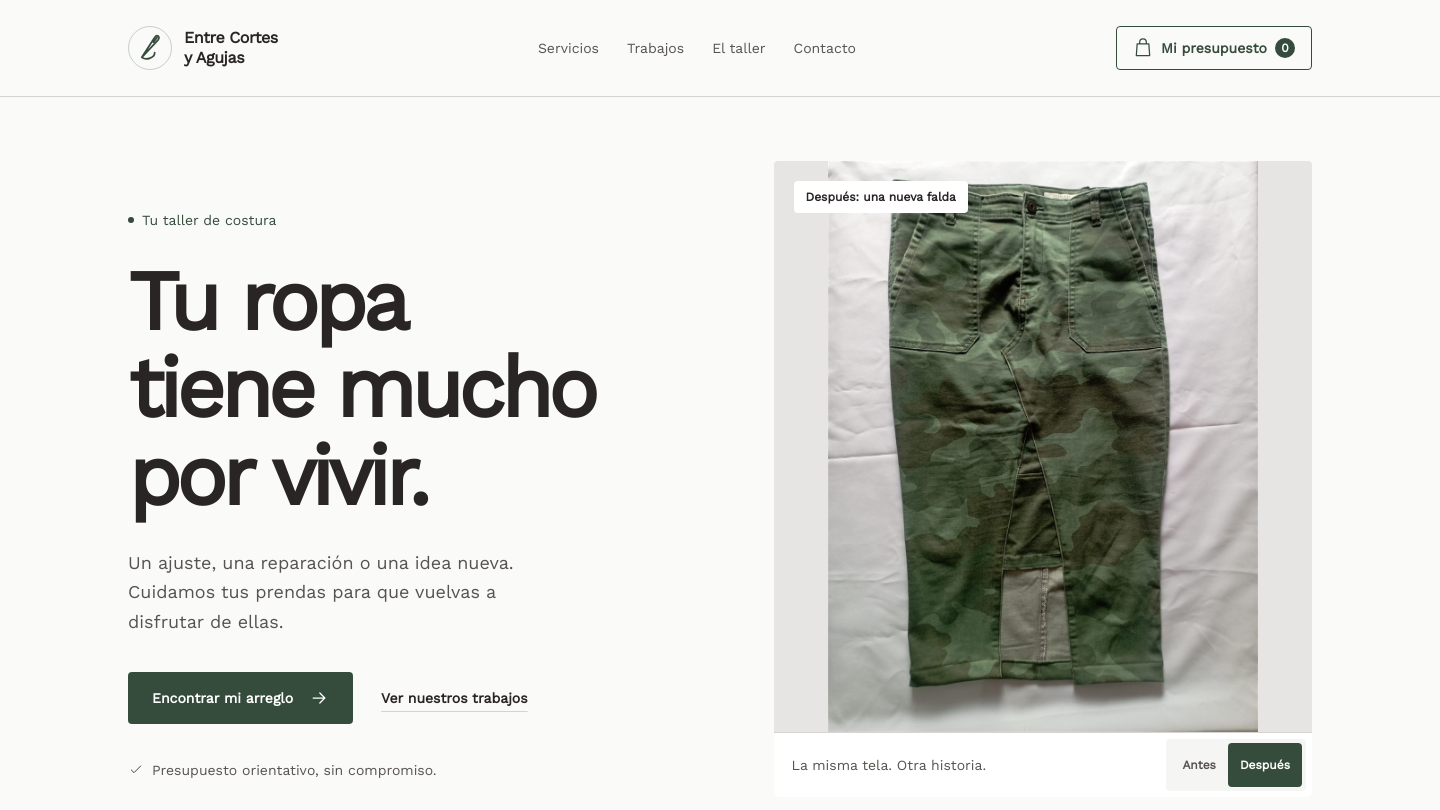
Scenario: workshop landing › renders the landing sections and compares a transformation
Expected: the heading "Tu ropa tiene mucho por vivir." is shown, [128,252,594,525]
Click the button with aria-label "Ver antes" at (1199, 765), box [1170,743,1228,787]
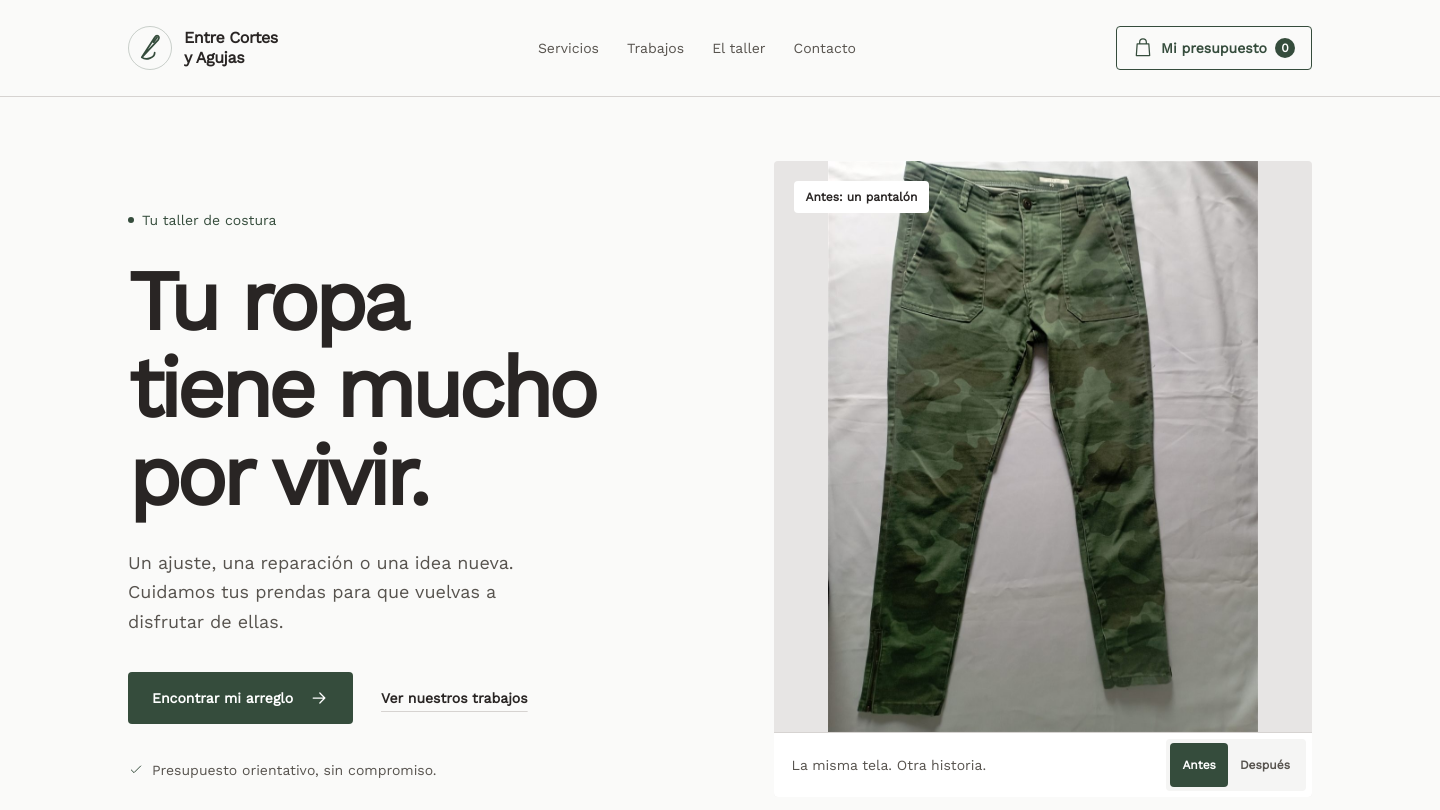
Now the picture with alt text "Pantalón original antes de su transformación" is shown, box [774,161,1312,732]
Click the button with aria-label "Ver después" at (1265, 765), box [1228,743,1302,787]
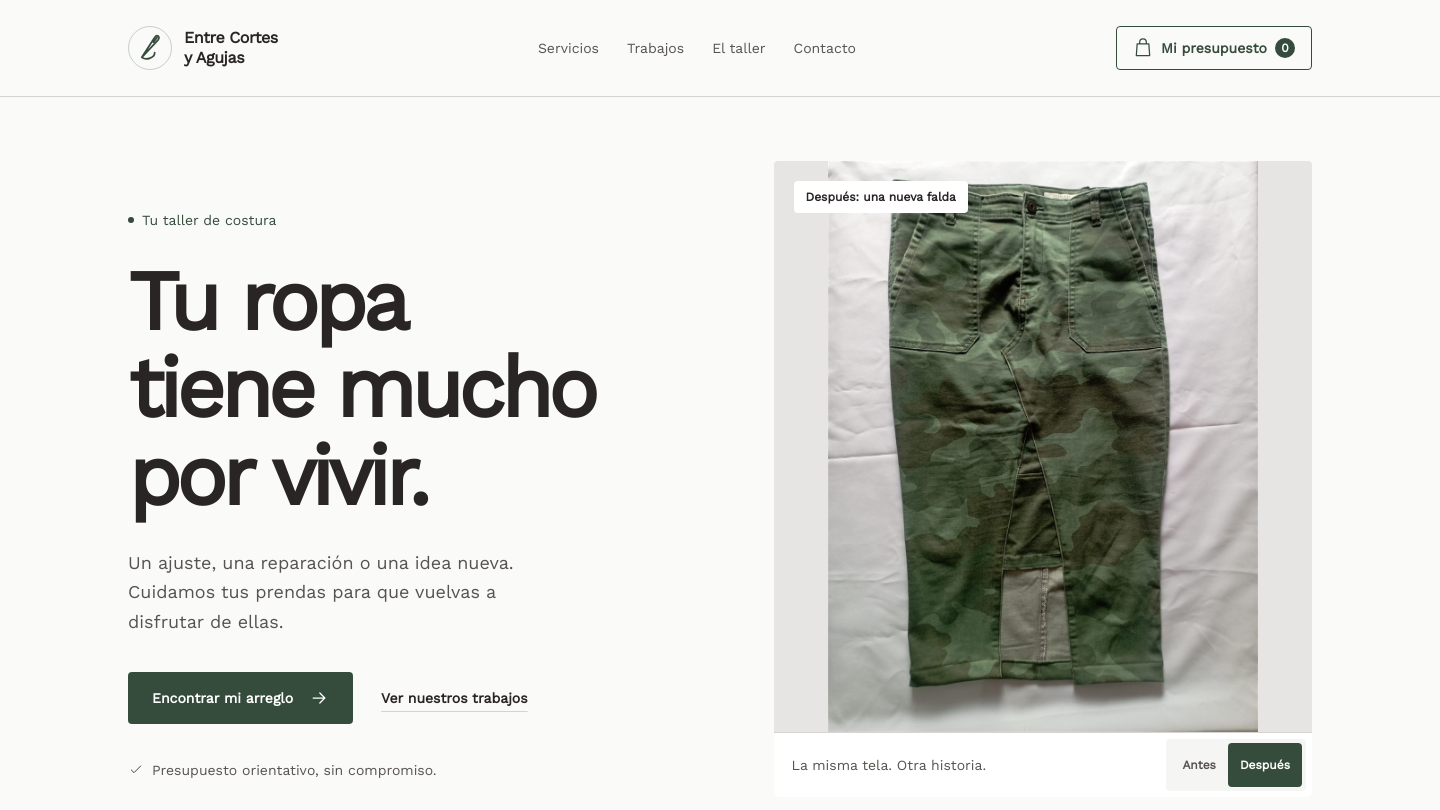
Now the picture with alt text "Falda creada a partir del pantalón original" is shown, box [774,161,1312,732]
